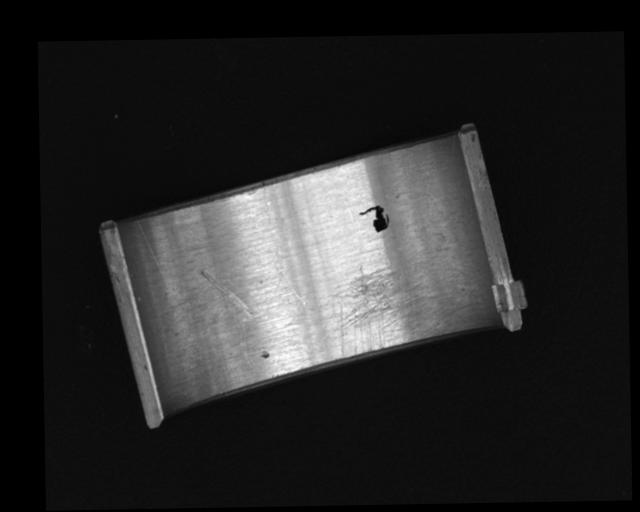blot: (358, 204, 390, 232)
bruise: (258, 350, 269, 360)
nick: (260, 183, 307, 306), (135, 216, 184, 309), (199, 268, 254, 318), (239, 312, 253, 369)
scratch: (327, 264, 453, 359)
